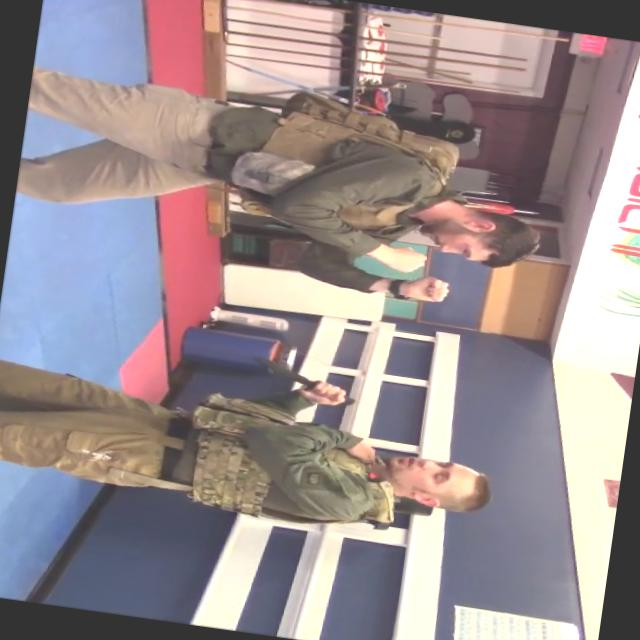knife: (242, 346, 369, 414)
